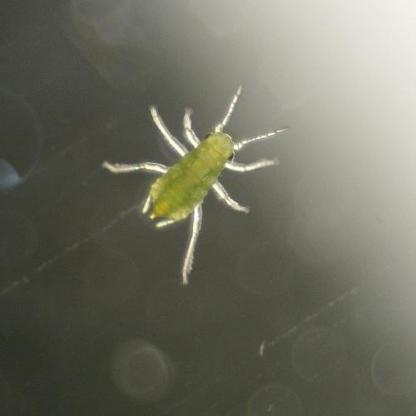aphid: (104, 82, 286, 281)
